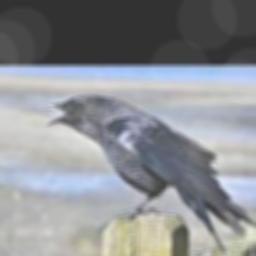Crow: (42, 93, 256, 253)
